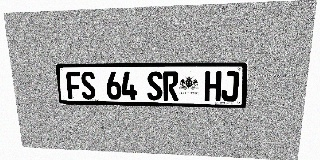4: (121, 71, 137, 100)
6: (106, 71, 122, 100)
F: (66, 72, 82, 99)
H: (204, 71, 222, 101)
J: (221, 71, 239, 102)
R: (163, 71, 178, 101)
S: (80, 71, 96, 99), (147, 71, 162, 100)
